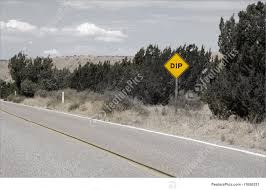dip: (165, 53, 190, 77)
